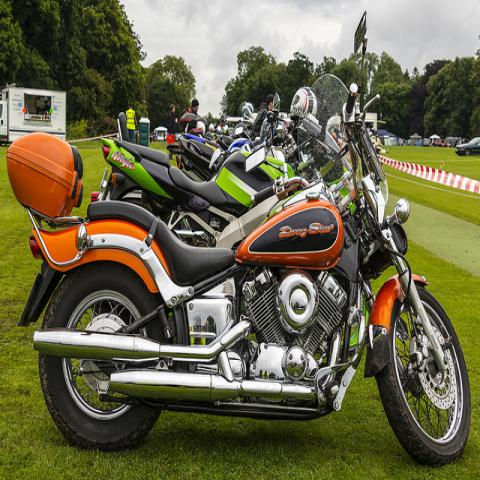car: (456, 137, 479, 158), (435, 139, 450, 147), (413, 139, 424, 147), (422, 138, 430, 148), (430, 141, 436, 147)
motorcycle: (7, 90, 476, 468), (96, 135, 282, 235), (181, 93, 280, 150), (180, 93, 279, 145), (168, 122, 260, 177)
truck: (0, 83, 68, 142)
